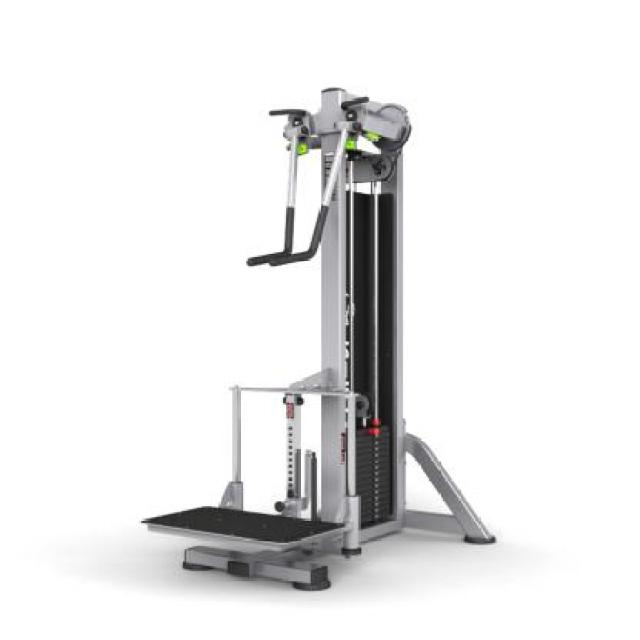lateral raises machine: (140, 88, 497, 590)
